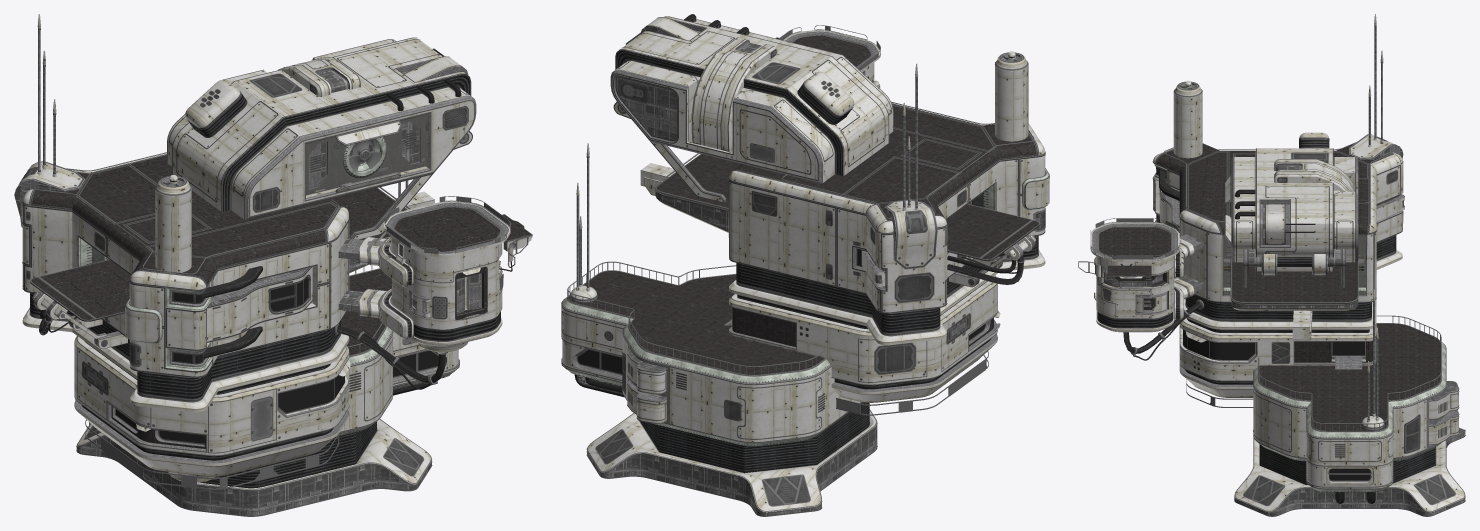
3 renders of one model, left to right at view 1: azimuth 30°, elevation 25°; view 2: azimuth 150°, elevation 25°; view 3: azimuth 270°, elevation 25°, orthographic. The views are drawn at different scales.
Visible parts, largest first — view 1: Cube.268, panel_decals, decals; view 2: Cube.268, panel_decals, decals; view 3: Cube.268, panel_decals, decals.
Part boxes in pixels (box(x1,y1,x2,y2)): Cube.268: box(14, 14, 532, 515); panel_decals: box(20, 28, 532, 516); decals: box(19, 40, 515, 476); Cube.268: box(561, 14, 1049, 516); panel_decals: box(561, 16, 1049, 516); decals: box(563, 32, 1045, 506); Cube.268: box(1078, 14, 1465, 515); panel_decals: box(1092, 25, 1465, 516); decals: box(1102, 88, 1455, 506).
Bounding box in the file's own units: 10.9 × 11.22 × 10.43.
Materials: 14 (12 with a texture image).
